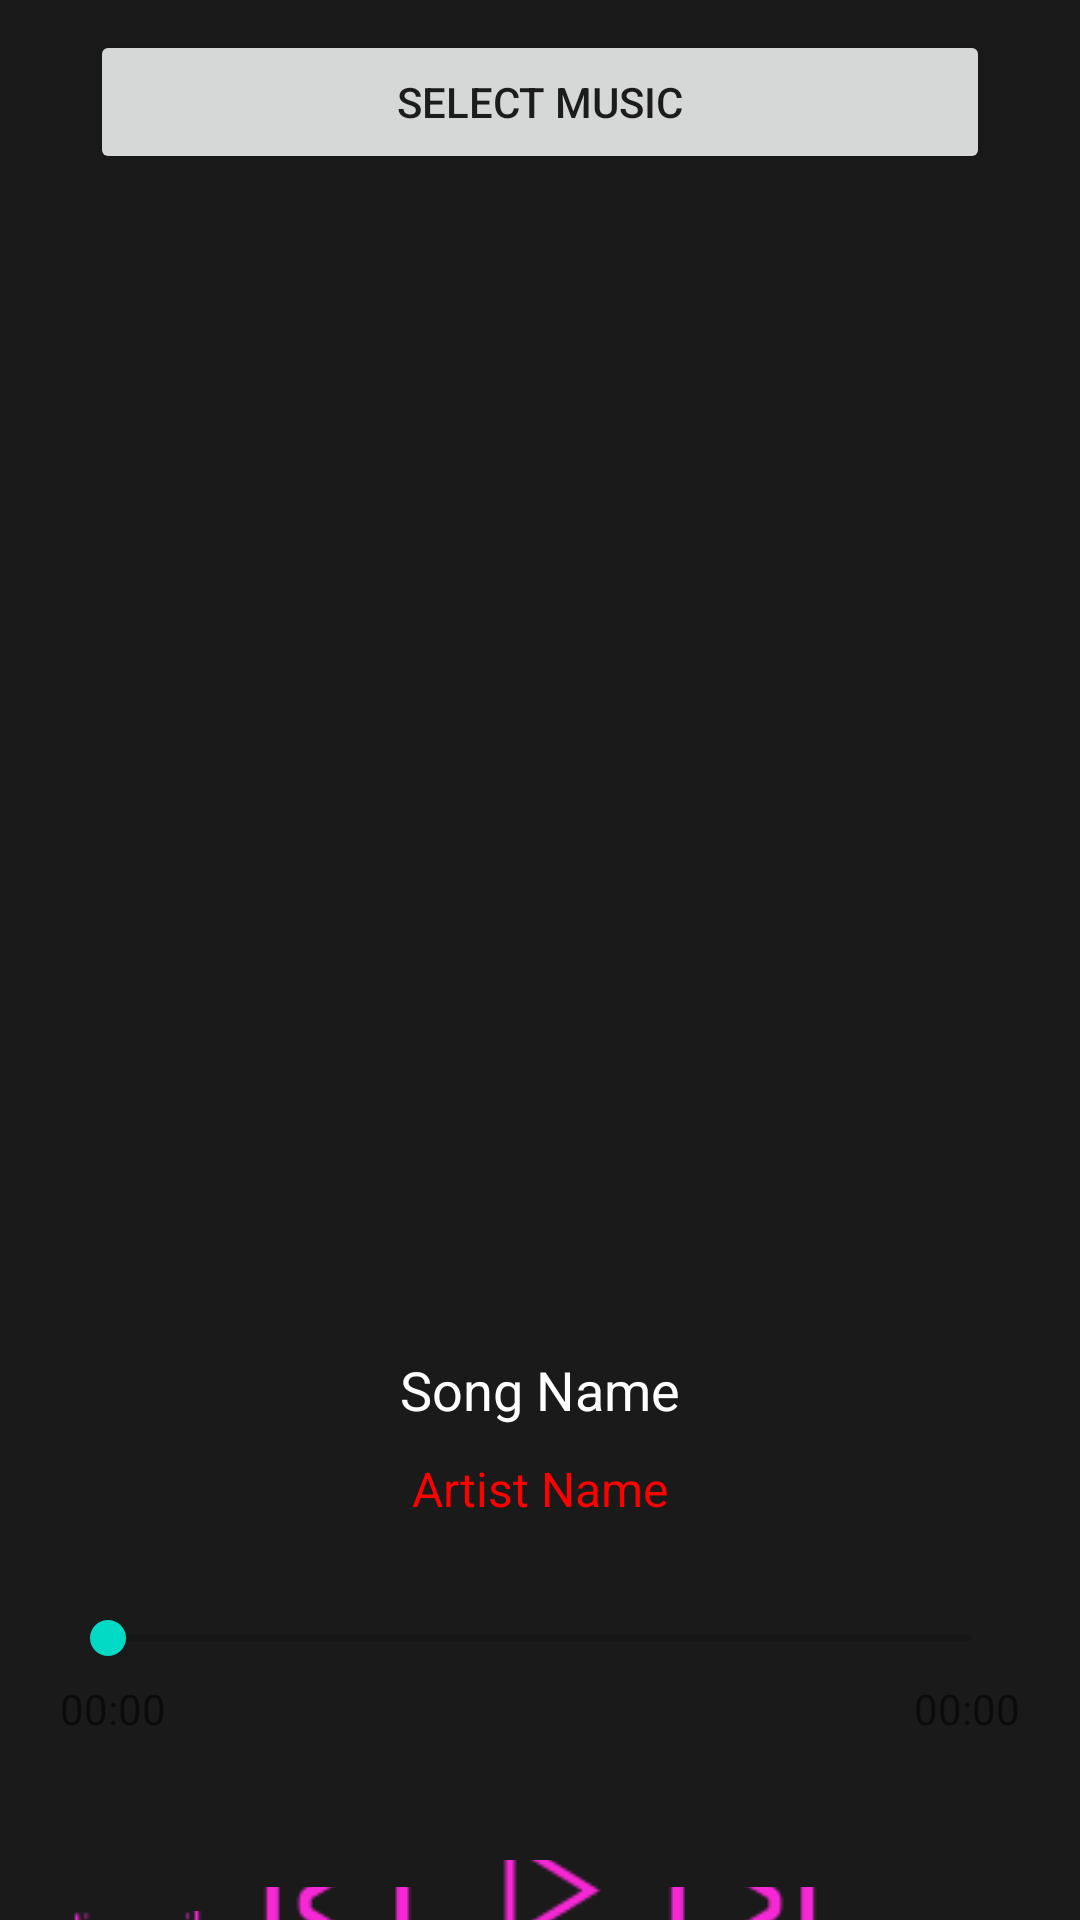

Icon click points for this 1080w x 1920h phone screenshot, format (x,y):
start: (552,1890)
